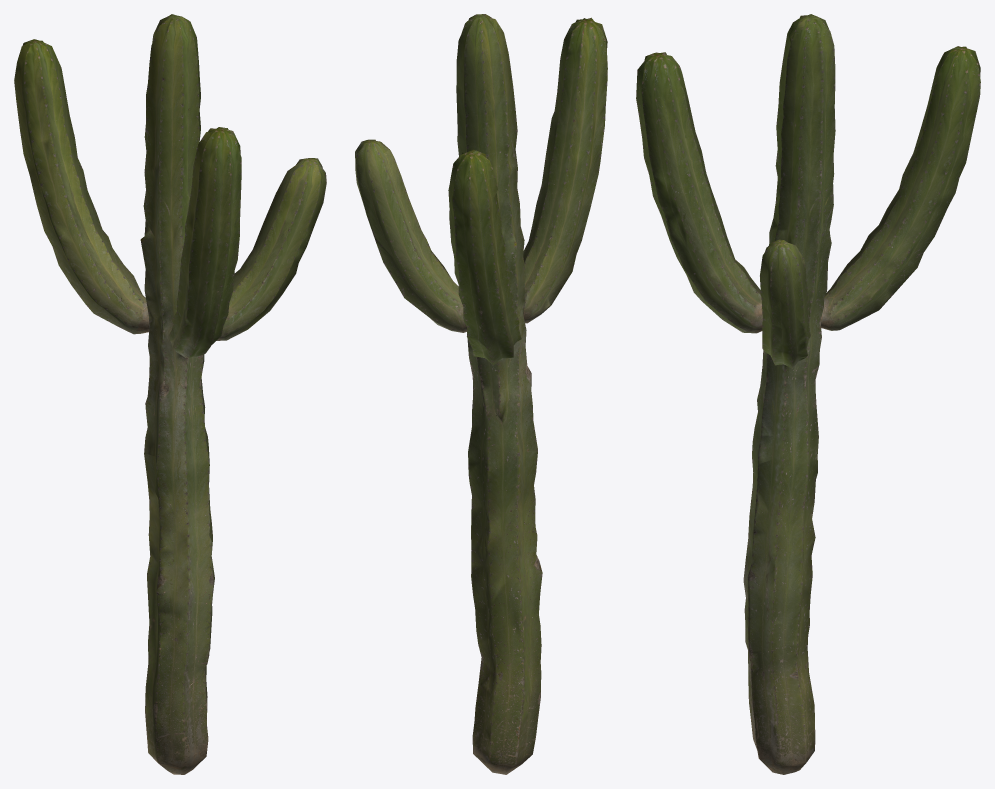
The model's file is kaktus.glb.
The picture shows the model from 3 angles, left to right: view 1: azimuth 30°, elevation 25°; view 2: azimuth 150°, elevation 25°; view 3: azimuth 270°, elevation 25°; orthographic projection. The views are drawn at different scales.
Parts seen in each view (by area): view 1: Object_2; view 2: Object_2; view 3: Object_2.
Part boxes in pixels (x1,y1,x2,y2): Object_2: [14, 14, 326, 774]; Object_2: [355, 14, 607, 774]; Object_2: [636, 14, 980, 774].
Bounding box in the file's own units: 49.37 × 160 × 65.72.
1 material, 1 textured.
